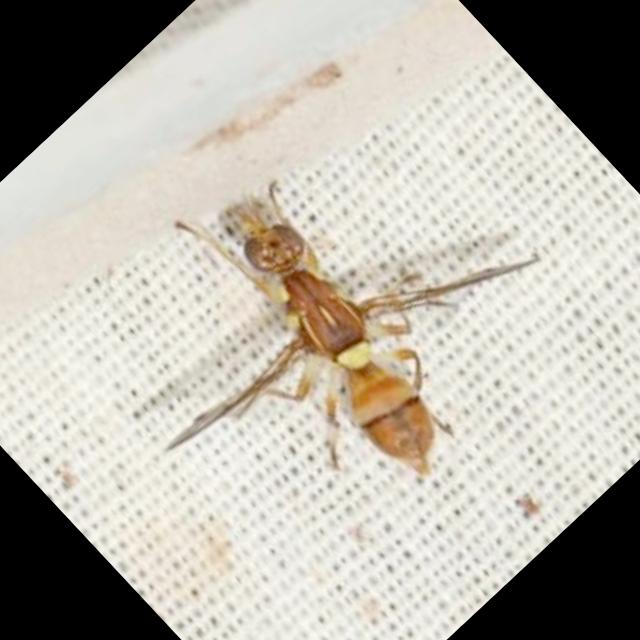melon fly: (42, 16, 634, 604)
